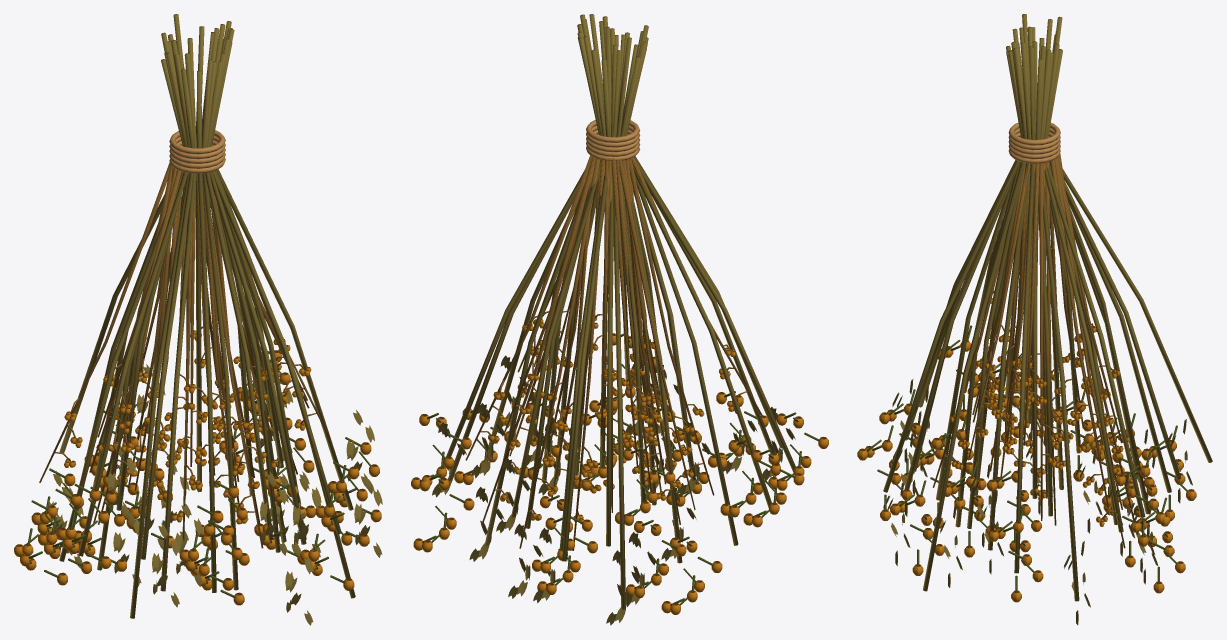
Rendered from herb-yellow.glb.
3 renders of one model, left to right at view 1: azimuth 30°, elevation 25°; view 2: azimuth 150°, elevation 25°; view 3: azimuth 270°, elevation 25°, orthographic. The views are drawn at different scales.
Parts seen in each view (by area): view 1: herb-yellow-mesh; view 2: herb-yellow-mesh; view 3: herb-yellow-mesh.
Part boxes in pixels (bbox=[...]): herb-yellow-mesh: bbox=[14, 14, 382, 625]; herb-yellow-mesh: bbox=[411, 14, 828, 625]; herb-yellow-mesh: bbox=[857, 14, 1212, 625].
Size of the model in its own units: 0.365 by 0.5766 by 0.3386.
Materials: 6 (6 with a texture image).
